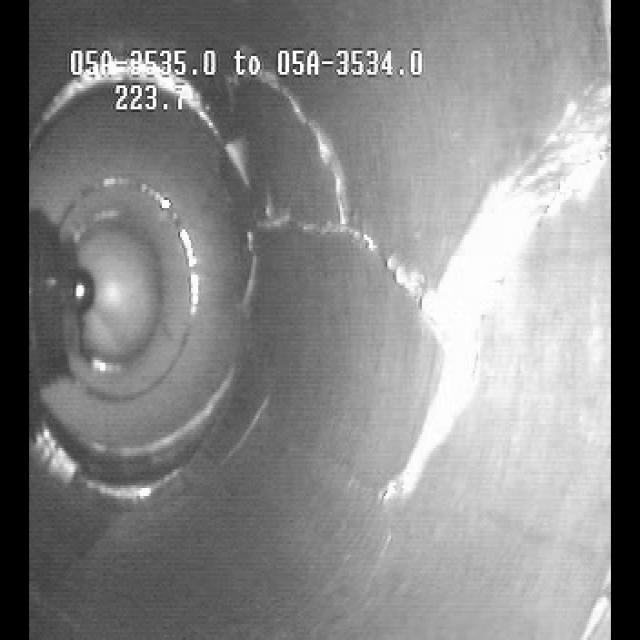Fracture: (318, 112, 572, 400)
